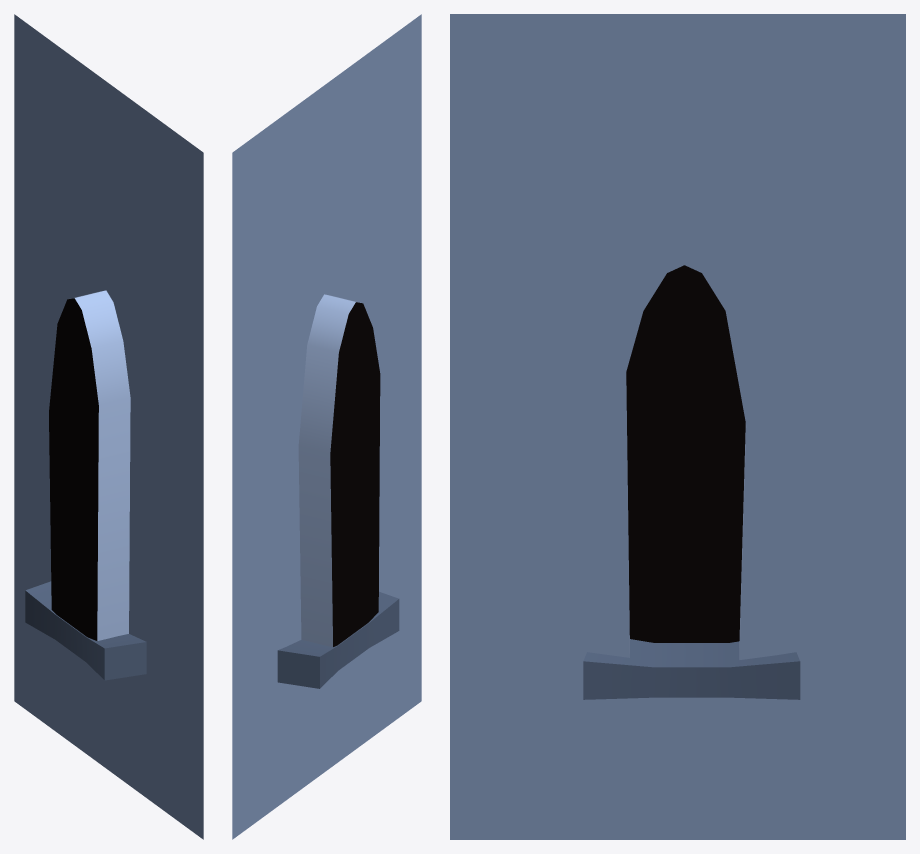
Rendered from M_mur_fenetre.FBX.
The picture shows the model from 3 angles, left to right: view 1: azimuth 30°, elevation 25°; view 2: azimuth 150°, elevation 25°; view 3: azimuth 270°, elevation 25°; orthographic projection. The views are drawn at different scales.
Parts seen in each view (by area): view 1: M_mur_fenetre; view 2: M_mur_fenetre; view 3: M_mur_fenetre.
Boxes of the visible parts, box(x1,y1,x2,y2) form: M_mur_fenetre: box(14, 14, 203, 839); M_mur_fenetre: box(232, 14, 421, 839); M_mur_fenetre: box(450, 14, 905, 839).
Size of the model in its own units: 49.28 by 600 by 300.
